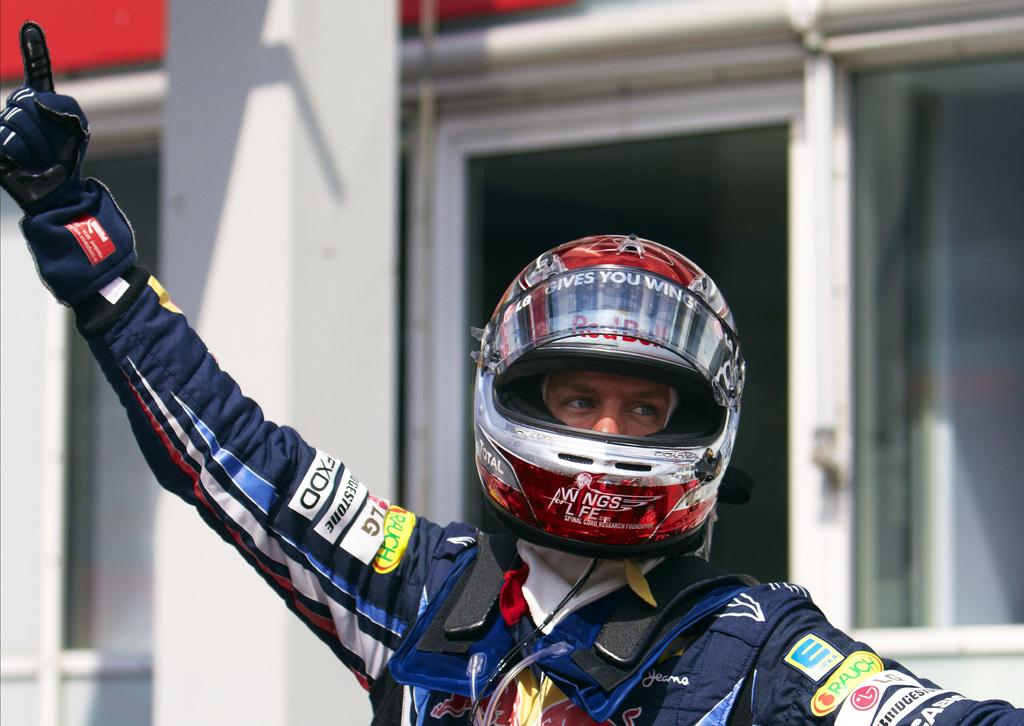helmet: (473, 234, 746, 560)
